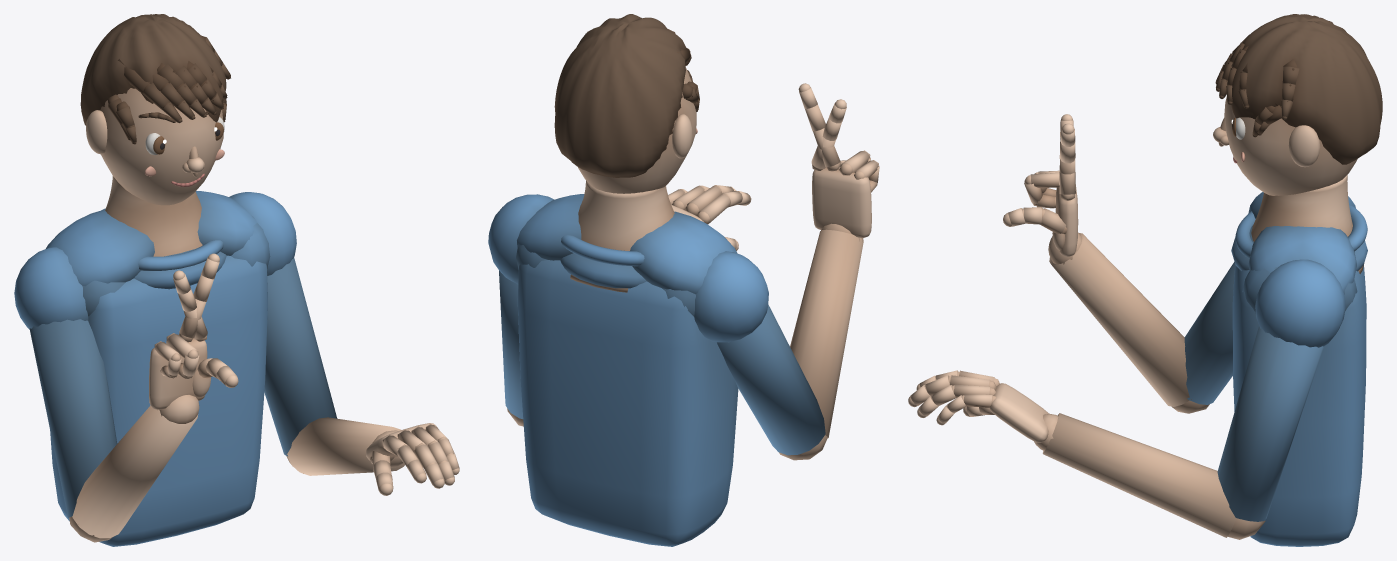
The picture shows the model from 3 angles, left to right: view 1: azimuth 30°, elevation 25°; view 2: azimuth 150°, elevation 25°; view 3: azimuth 270°, elevation 25°; orthographic projection.
Visible parts, largest first — view 1: LSC_Body; view 2: LSC_Body; view 3: LSC_Body.
Boxes of the visible parts, x1,y1,x2,y2 form: LSC_Body: (14,14,459,546); LSC_Body: (488,14,879,546); LSC_Body: (908,14,1382,546).
Bounding box in the file's own units: 0.4304 × 0.713 × 0.6104.
